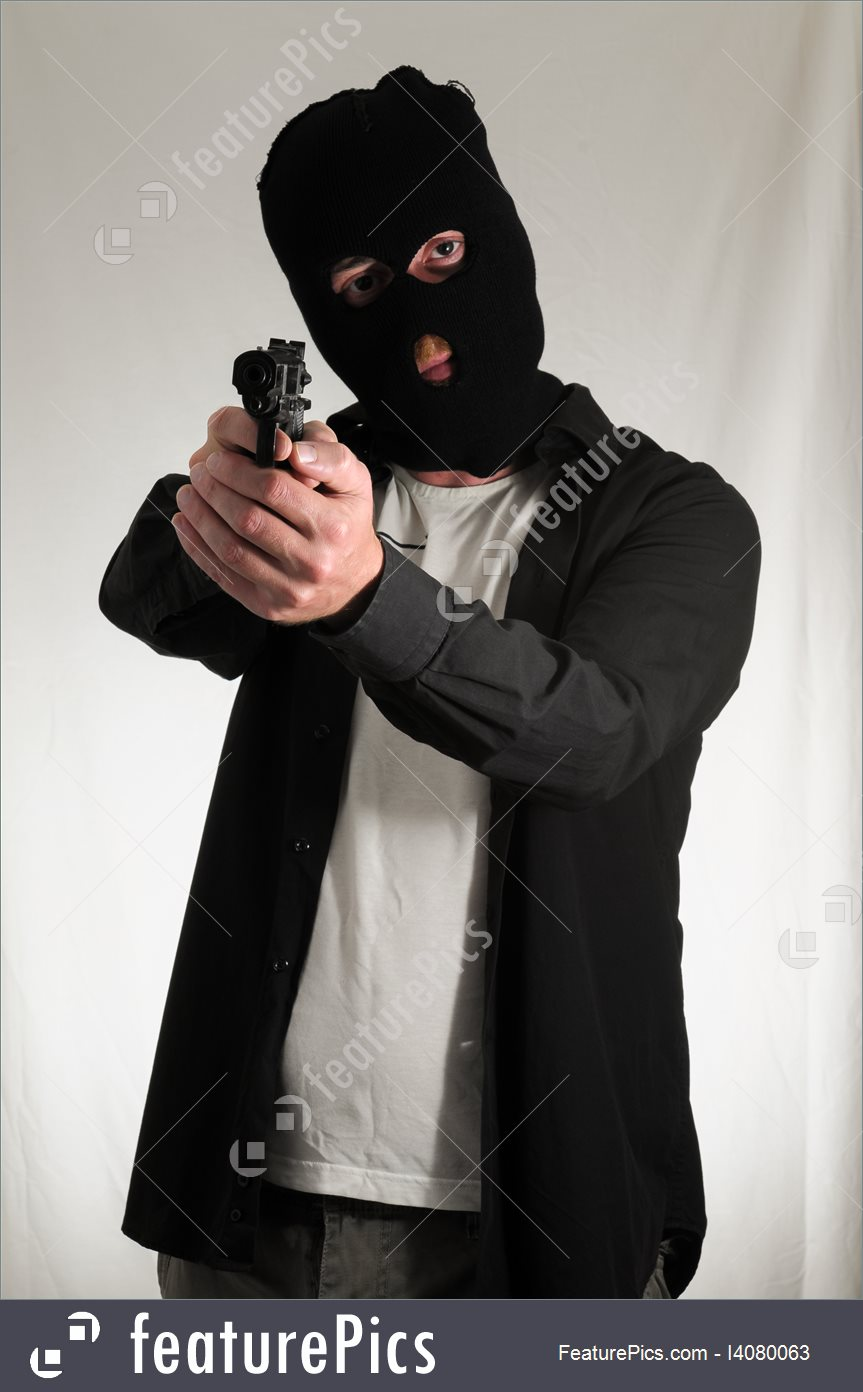pistol: (143, 296, 389, 638)
